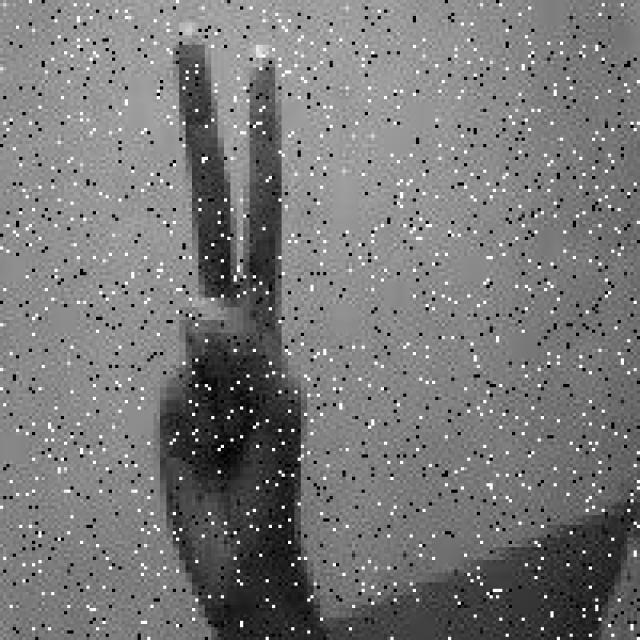V: (144, 19, 317, 608)
